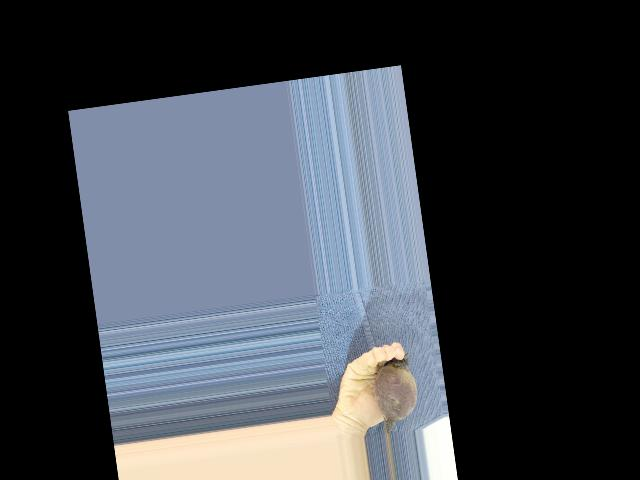beet: (368, 351, 421, 434)
